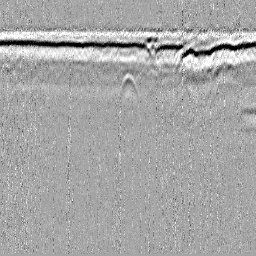cavity: (118, 72, 139, 100)
